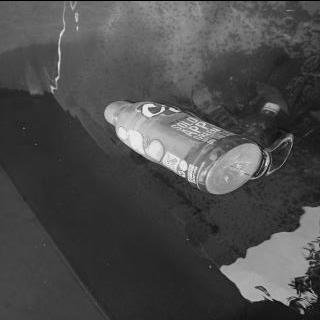bottle: (100, 97, 266, 195)
